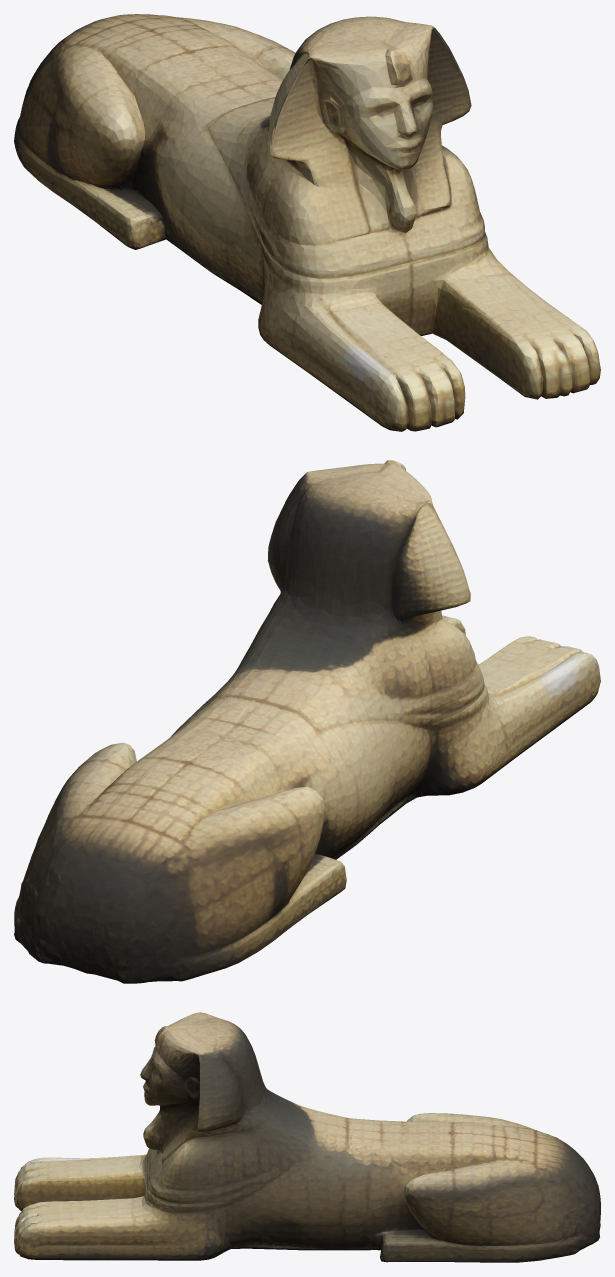
The model's file is sphinx_base_opt.glb.
3 renders of one model, top to bottom at view 1: azimuth 30°, elevation 25°; view 2: azimuth 150°, elevation 25°; view 3: azimuth 270°, elevation 25°, orthographic. The views are drawn at different scales.
Visible parts, largest first — view 1: geometry_0; view 2: geometry_0; view 3: geometry_0.
Boxes of the visible parts, x1=… form: geometry_0: x1=14, y1=14, x2=600, y2=431; geometry_0: x1=14, y1=460, x2=600, y2=983; geometry_0: x1=14, y1=1012, x2=600, y2=1262.
Bounding box in the file's own units: 0.3194 × 0.3772 × 0.9988.
1 material, 1 textured.
